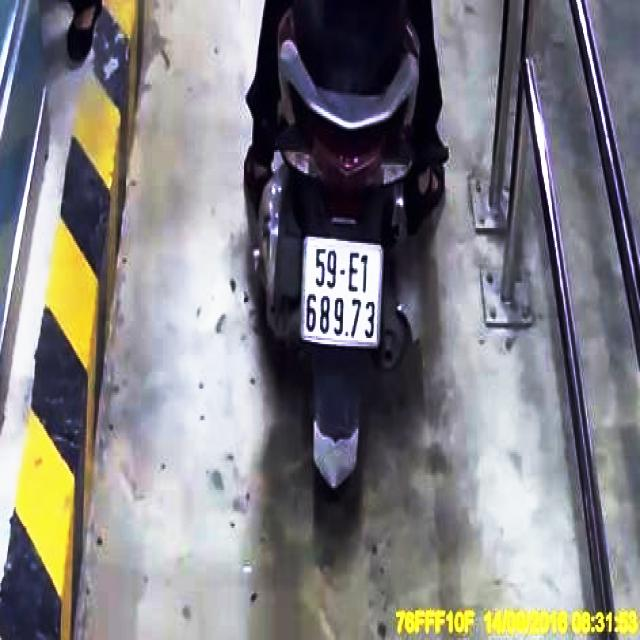license_plate: (303, 241, 384, 344)
